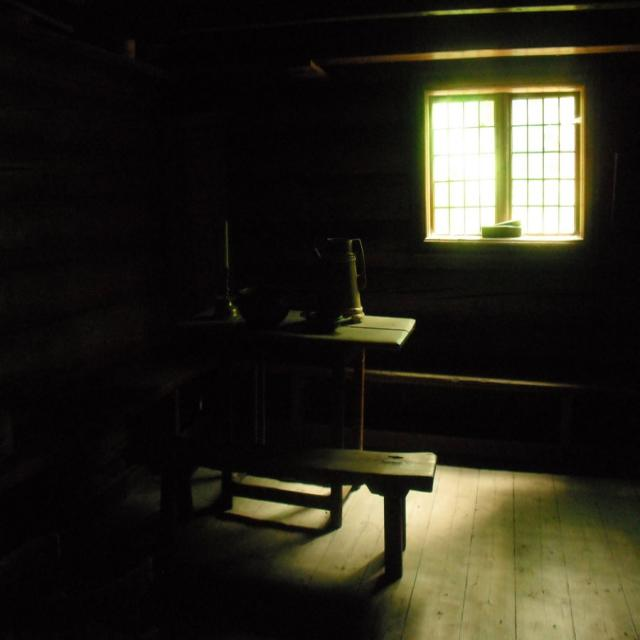Table: (188, 244, 437, 438)
chair: (149, 393, 497, 616)
